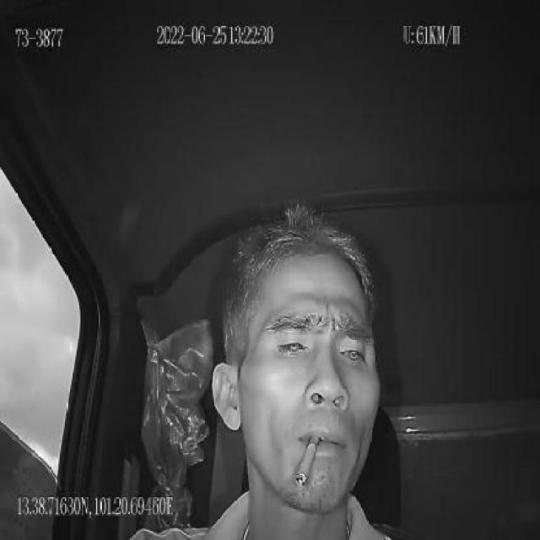smoking: (297, 434, 318, 487)
